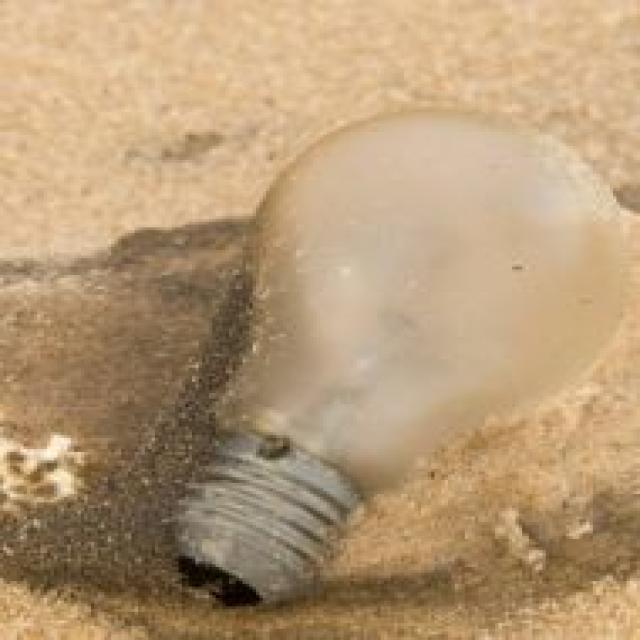electronic: (165, 104, 633, 606)
